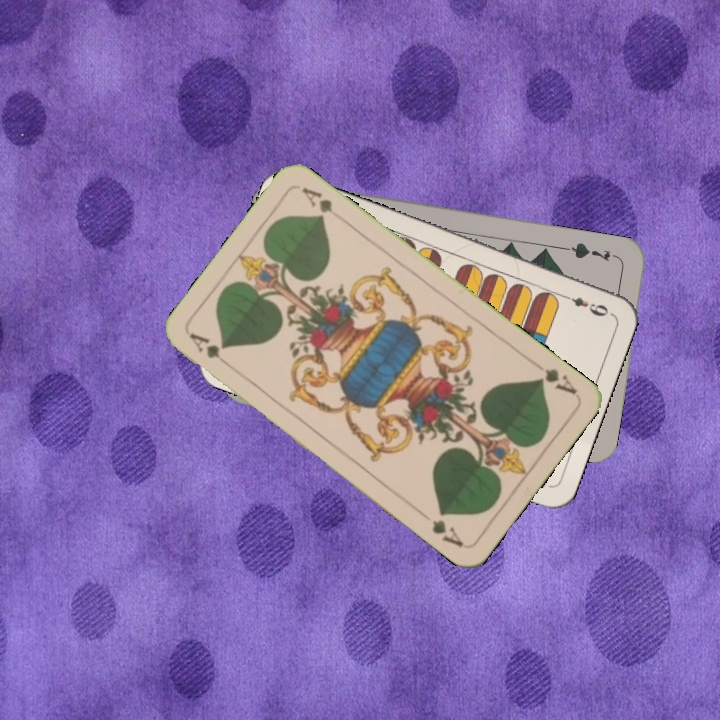E9: (556, 290, 614, 319)
G7: (563, 238, 622, 264)
GA: (185, 328, 236, 372), (528, 357, 580, 398)
